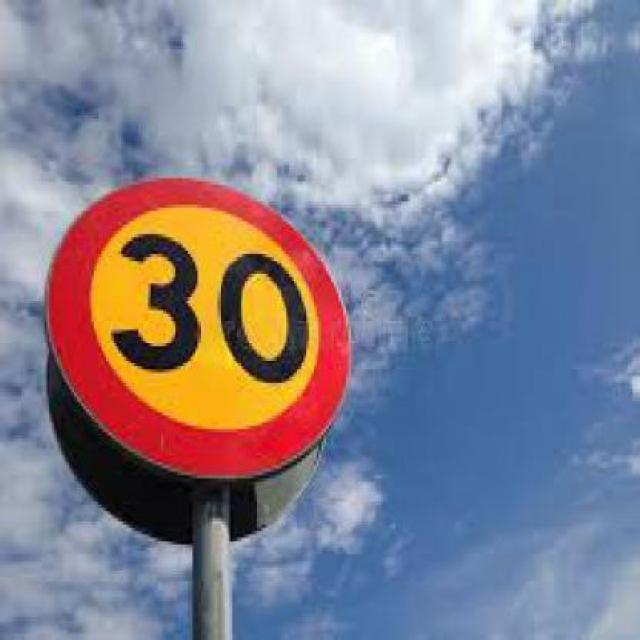speed_limit_30: (44, 172, 356, 488)
